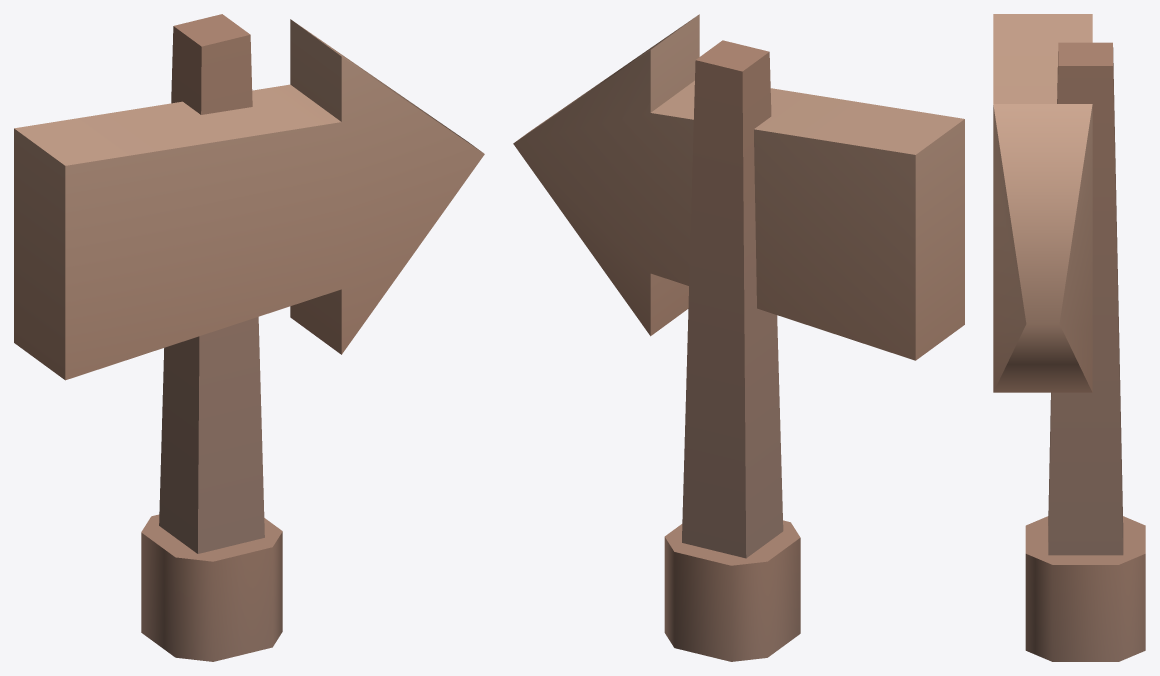
The model's file is sign.glb.
3 views of the same model, side by side, from view 1: azimuth 30°, elevation 25°; view 2: azimuth 150°, elevation 25°; view 3: azimuth 270°, elevation 25° (orthographic). The views are drawn at different scales.
Parts seen in each view (by area): view 1: sign; view 2: sign; view 3: sign.
Boxes of the visible parts, x1=… form: sign: x1=14, y1=14, x2=484, y2=661; sign: x1=513, y1=14, x2=964, y2=661; sign: x1=993, y1=14, x2=1145, y2=661.
Size of the model in its own units: 0.4557 by 0.6 by 0.1423.
